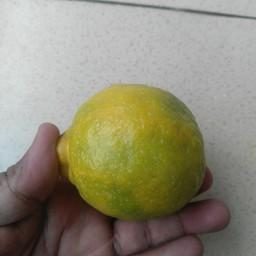Good_orange: (54, 77, 208, 223)
